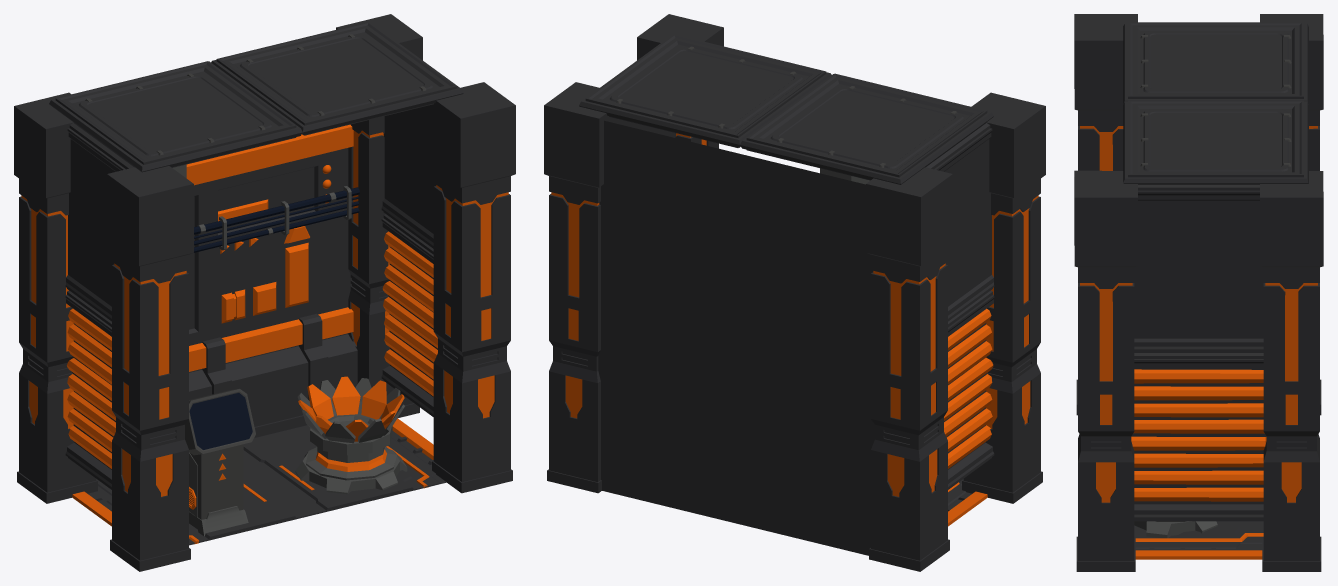
The model's file is WeaponFactory.fbx.
The picture shows the model from 3 angles, left to right: view 1: azimuth 30°, elevation 25°; view 2: azimuth 150°, elevation 25°; view 3: azimuth 270°, elevation 25°; orthographic projection.
Visible parts, largest first — view 1: WeaponFactory_LOD0; view 2: WeaponFactory_LOD0; view 3: WeaponFactory_LOD0.
Boxes of the visible parts, x1,y1,x2,y2 form: WeaponFactory_LOD0: [14, 14, 515, 571]; WeaponFactory_LOD0: [544, 14, 1045, 571]; WeaponFactory_LOD0: [1074, 14, 1323, 571].
Size of what is drawn, in the model's own units: 468 by 457 by 268.
